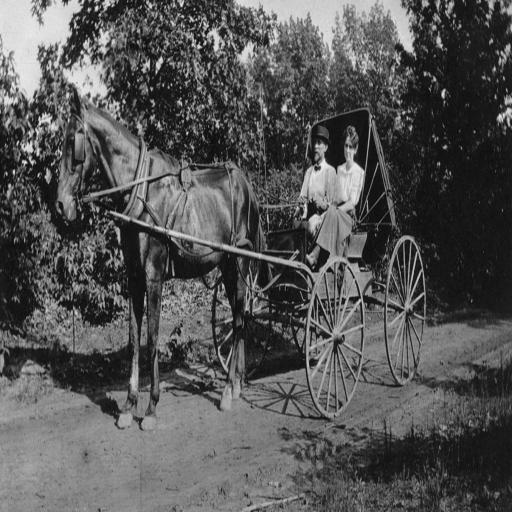Horse: (52, 82, 266, 431)
